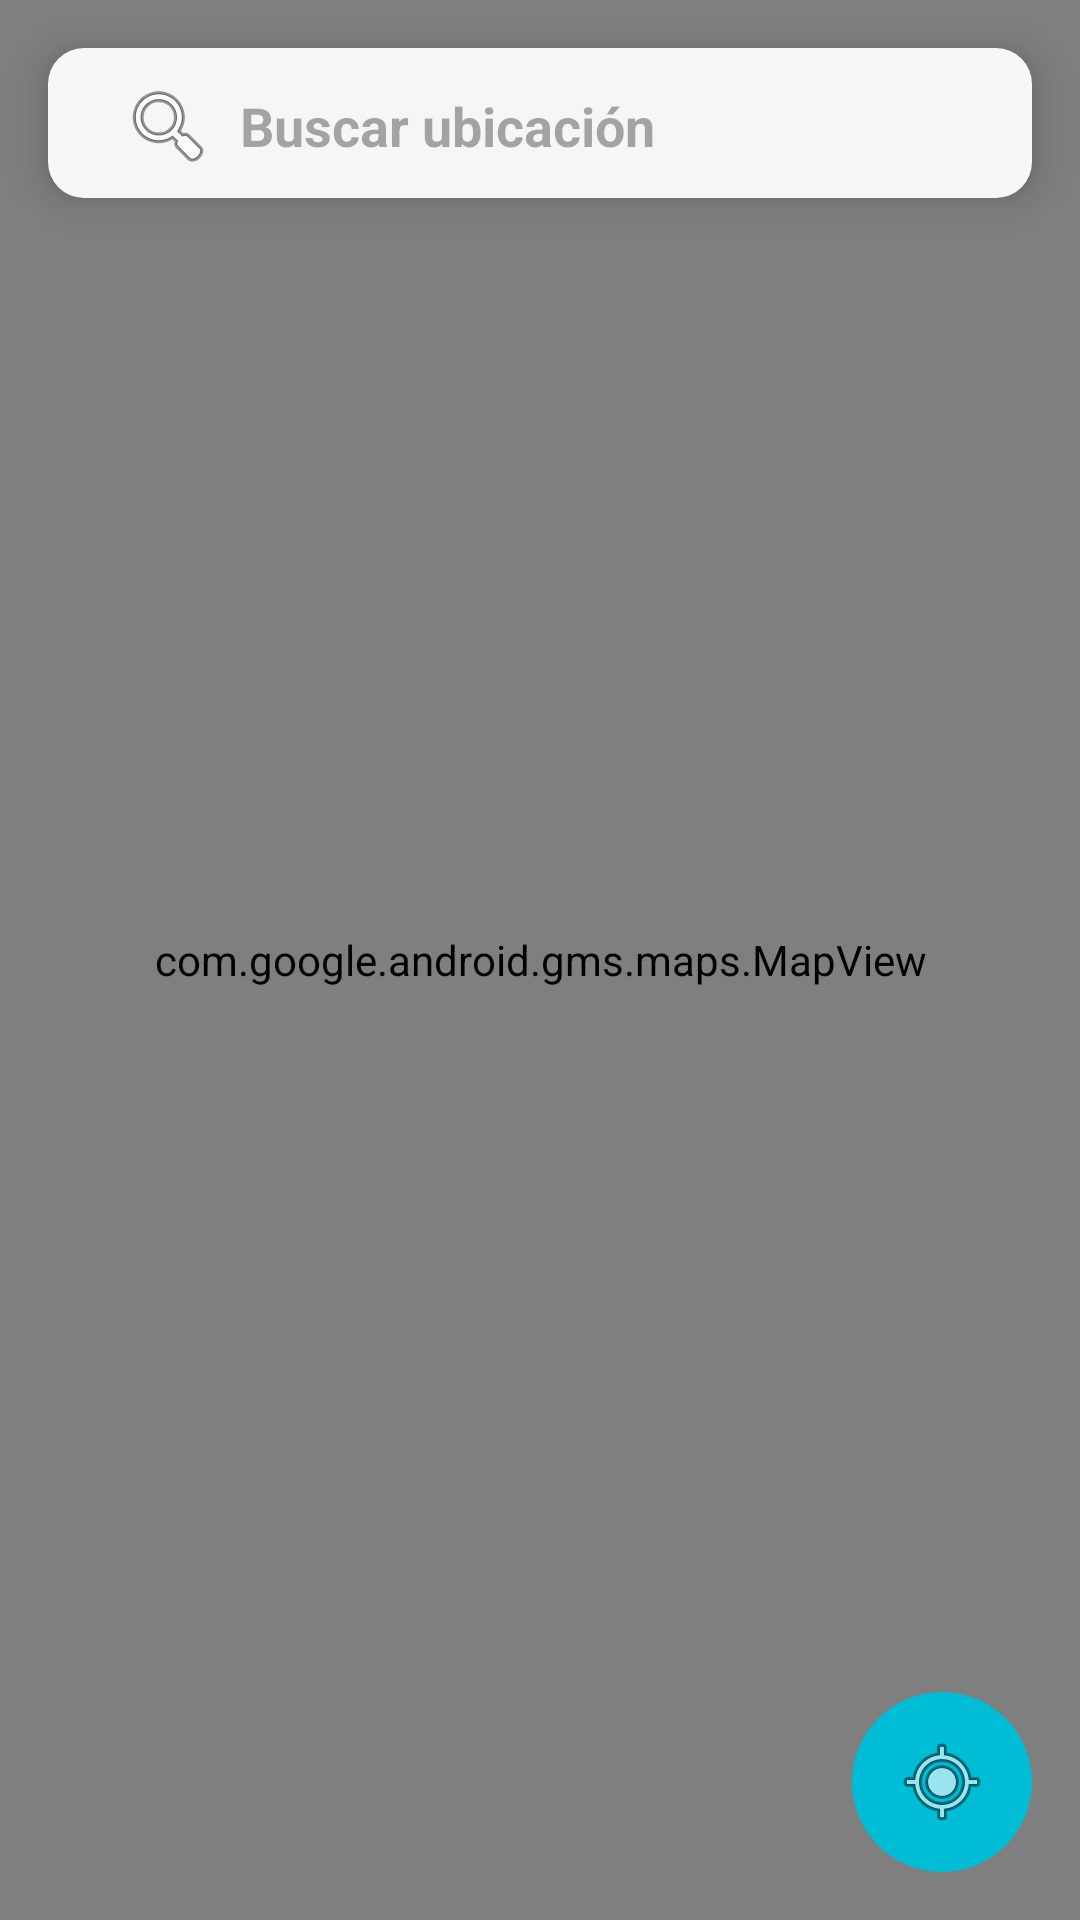

Where to tap for icons on this 1080x1920 app screen, as point (x, y):
Mi ubicación: point (942, 1782)
